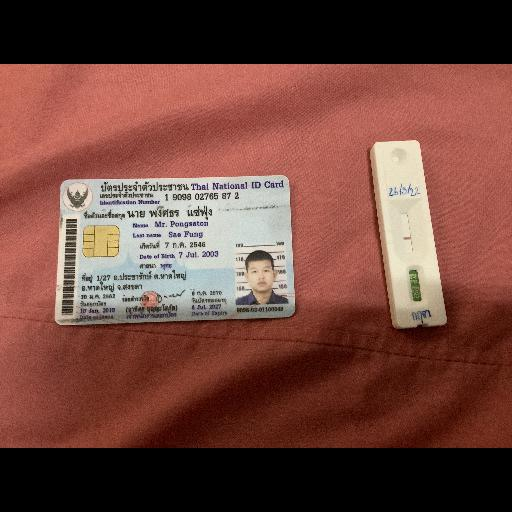Neg: (372, 139, 449, 329)
